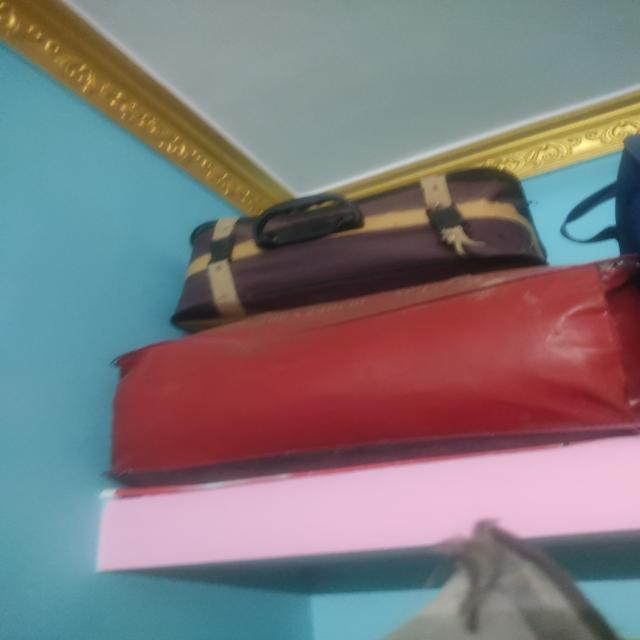suitcaserotation: (101, 248, 639, 489), (165, 162, 554, 335)
